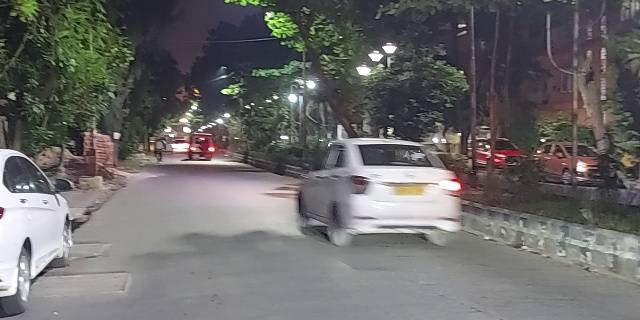Car: (295, 136, 459, 245)
